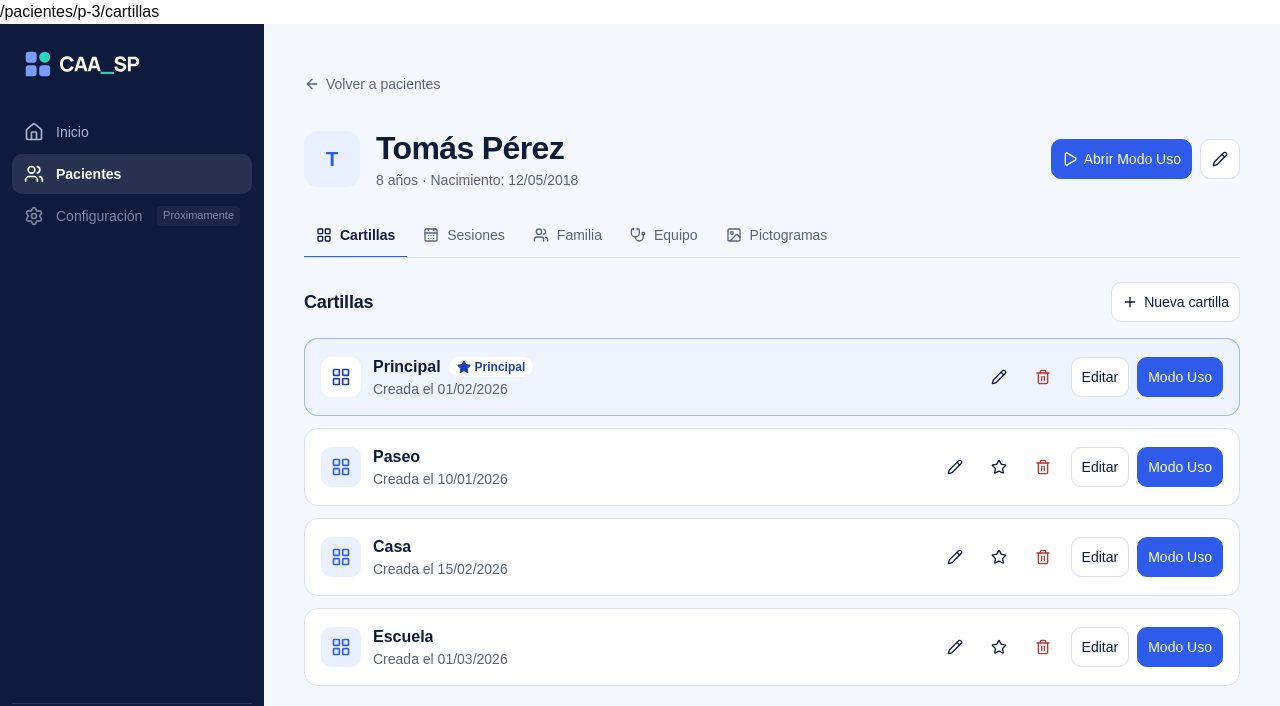
Test case: BoardsPage cartilla CRUD › create › keeps the typed text and shows the error inline when the creation fails
Expected: the heading "Tomás Pérez" is shown, [376,128,578,168]
Click the button "Nueva cartilla".
click(1176, 302)  # box [1111,282,1240,322]
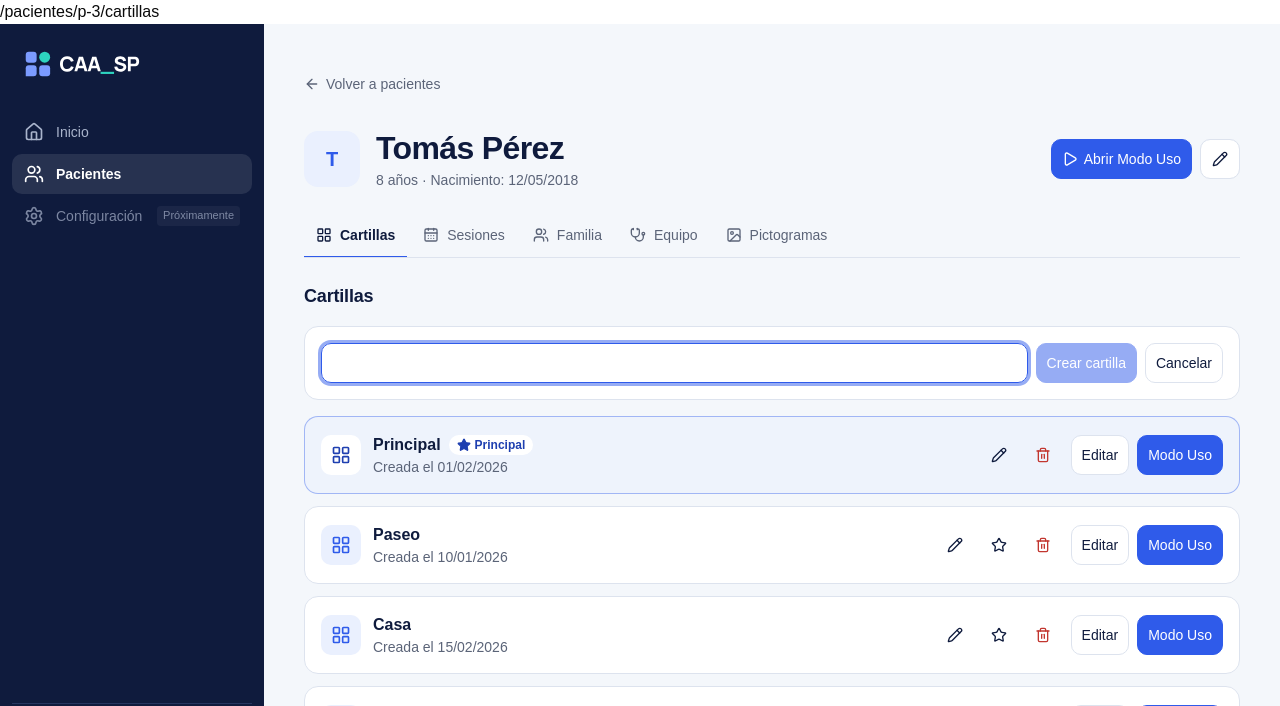
Type "Fallida" into the field named "Nombre de la nueva cartilla".
click(674, 363); type("Fallida")  # box [321,343,1028,383]
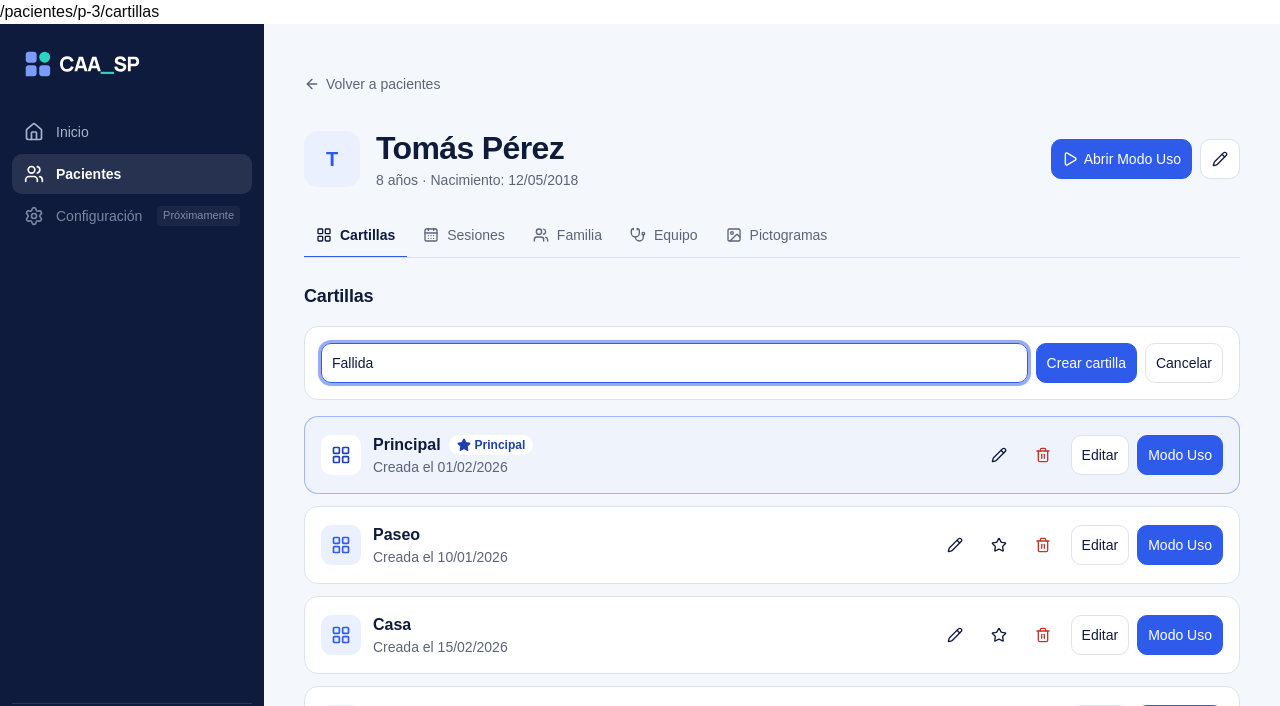
Click the button "Crear cartilla".
click(1086, 363)  # box [1036,343,1137,383]
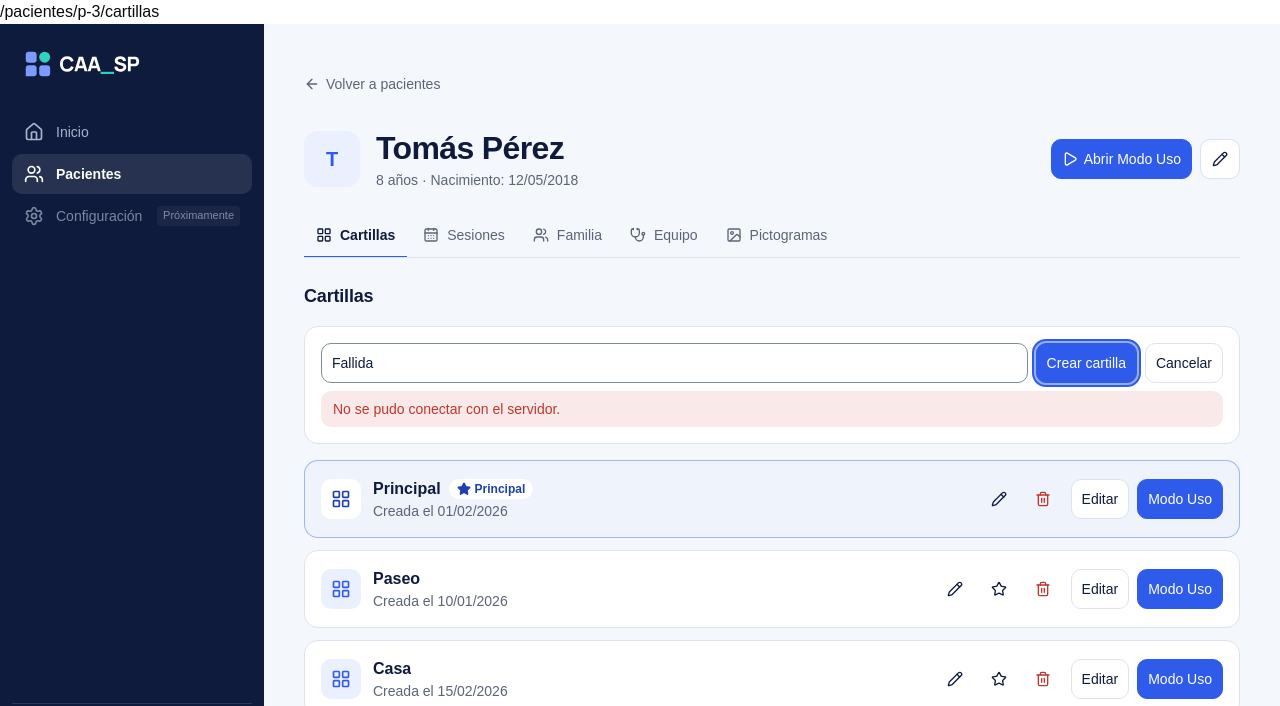
Now the message reads "No se pudo conectar con el servidor.", box [333,401,560,417]
